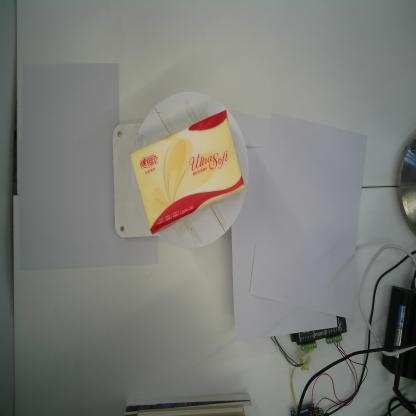Tissue: (128, 107, 246, 239)
